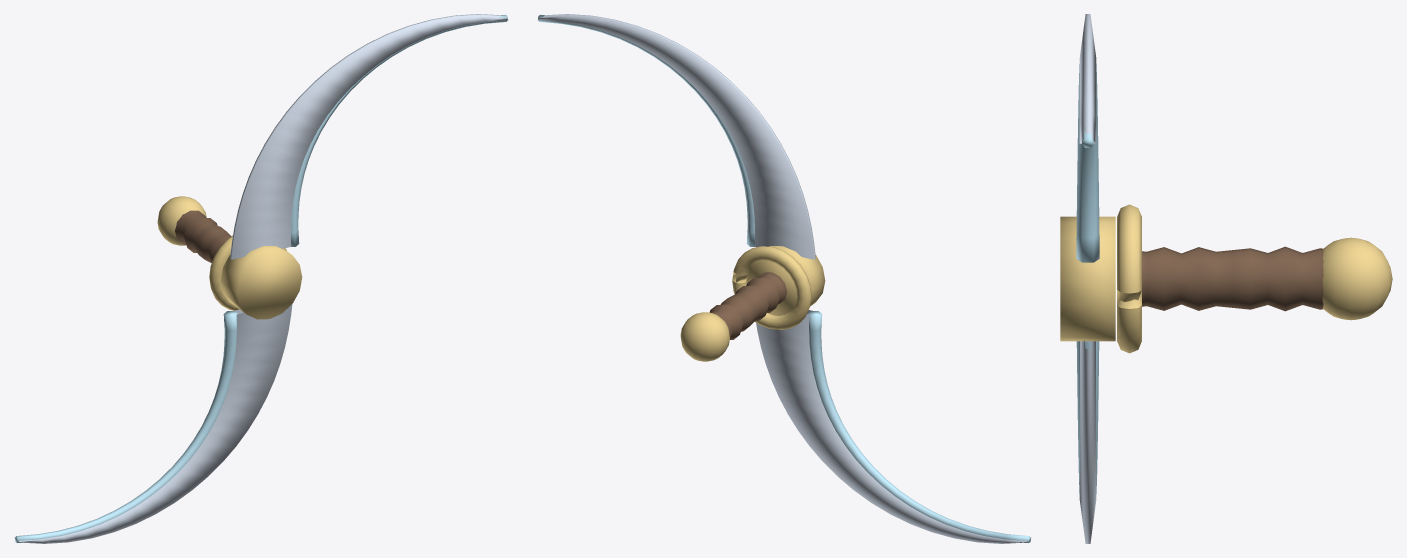
The model's file is SpinBlade_R.fbx.
The picture shows the model from 3 angles, left to right: view 1: azimuth 30°, elevation 25°; view 2: azimuth 150°, elevation 25°; view 3: azimuth 270°, elevation 25°; orthographic projection. The views are drawn at different scales.
Parts seen in each view (by area): view 1: Rotor_R, Grip_R; view 2: Rotor_R, Grip_R; view 3: Grip_R, Rotor_R.
Boxes of the visible parts, box(x1,y1,x2,y2) form: Rotor_R: box(14, 14, 508, 543); Grip_R: box(157, 196, 286, 310); Rotor_R: box(537, 14, 1031, 543); Grip_R: box(680, 246, 811, 361); Grip_R: box(1117, 204, 1392, 353); Rotor_R: box(1060, 14, 1115, 543).
Size of the model in its own units: 0.6795 by 0.5753 by 0.24.
